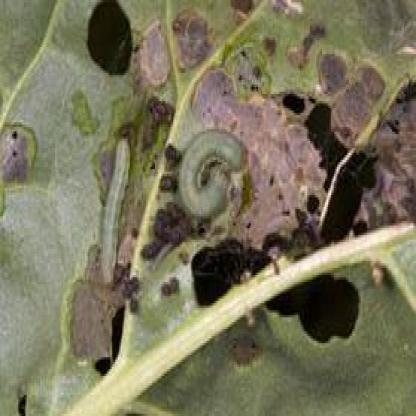armyworm: (174, 122, 246, 223), (98, 133, 132, 293)
